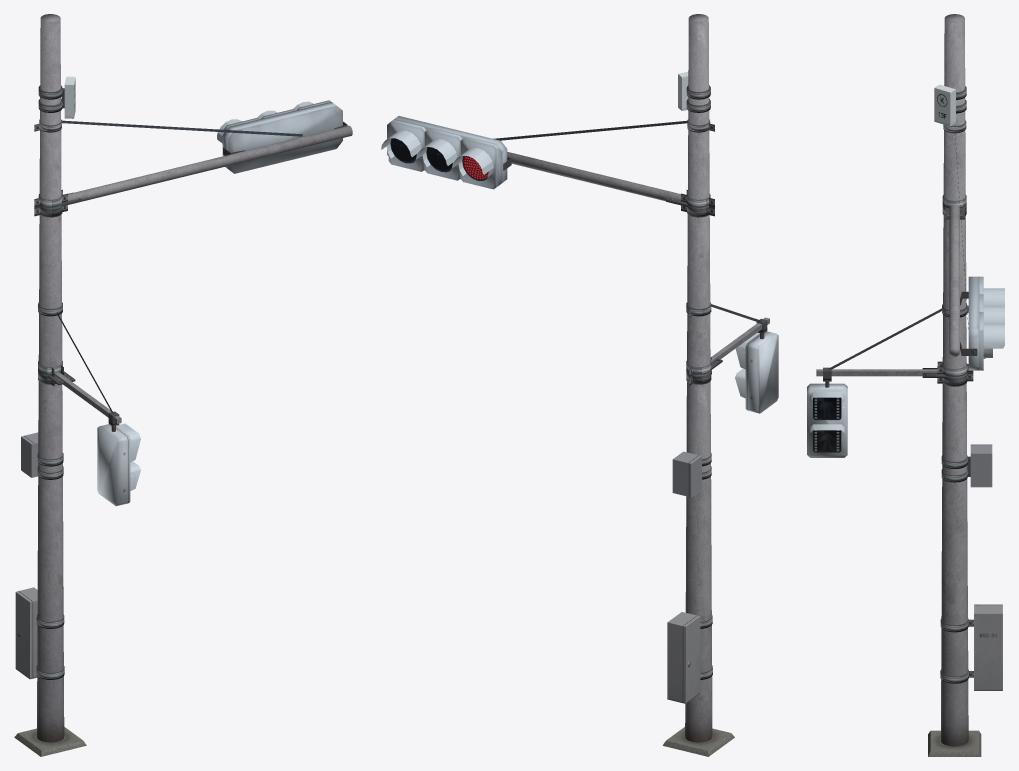
File: Traffic_light_Auto_1_Ped_R.fbx
The picture shows the model from 3 angles, left to right: view 1: azimuth 30°, elevation 25°; view 2: azimuth 150°, elevation 25°; view 3: azimuth 270°, elevation 25°; orthographic projection.
Parts seen in each view (by area): view 1: 00_pillar, 35_Auto_light_2, 40_Ped_light, 10_Auto_bar, 80_box_L, 85_box_S, 86_box_SS, 20_Auto_latch_bar; view 2: 00_pillar, 35_Auto_light_2, 40_Ped_light, 80_box_L, 10_Auto_bar, 85_box_S, 86_box_SS, 20_Auto_latch_bar; view 3: 00_pillar, 40_Ped_light, 35_Auto_light_2, 80_box_L, 10_Auto_bar, 85_box_S, 86_box_SS, 72_light_Ped_green, 70_light_Ped_red, 20_Auto_latch_bar.
Part boxes in pixels (x1,y1,x2,y2): 00_pillar: (14, 14, 86, 756); 35_Auto_light_2: (62, 100, 347, 173); 40_Ped_light: (38, 302, 140, 506); 10_Auto_bar: (68, 125, 352, 201); 80_box_L: (15, 587, 64, 679); 85_box_S: (21, 432, 63, 479); 86_box_SS: (38, 76, 75, 118); 20_Auto_latch_bar: (34, 189, 82, 217); 00_pillar: (662, 14, 734, 756); 35_Auto_light_2: (381, 116, 687, 189); 40_Ped_light: (686, 302, 778, 413); 80_box_L: (667, 612, 712, 703); 10_Auto_bar: (507, 152, 680, 201); 85_box_S: (672, 451, 711, 497); 86_box_SS: (678, 72, 710, 112); 20_Auto_latch_bar: (666, 190, 714, 217); 00_pillar: (928, 14, 981, 756); 40_Ped_light: (807, 304, 973, 457); 35_Auto_light_2: (955, 133, 1004, 370); 80_box_L: (940, 604, 1002, 690); 10_Auto_bar: (949, 205, 959, 356); 85_box_S: (941, 444, 992, 487); 86_box_SS: (934, 84, 966, 126); 72_light_Ped_green: (813, 430, 841, 452); 70_light_Ped_red: (813, 397, 841, 419); 20_Auto_latch_bar: (942, 194, 966, 219).
Size of the model in its own units: 3.51 by 7.5 by 1.85.
